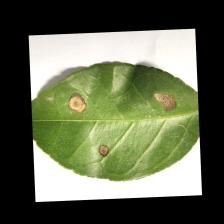canker: (42, 60, 180, 162)
